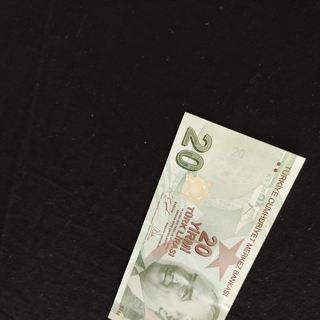20TLFront: (107, 111, 306, 320)
